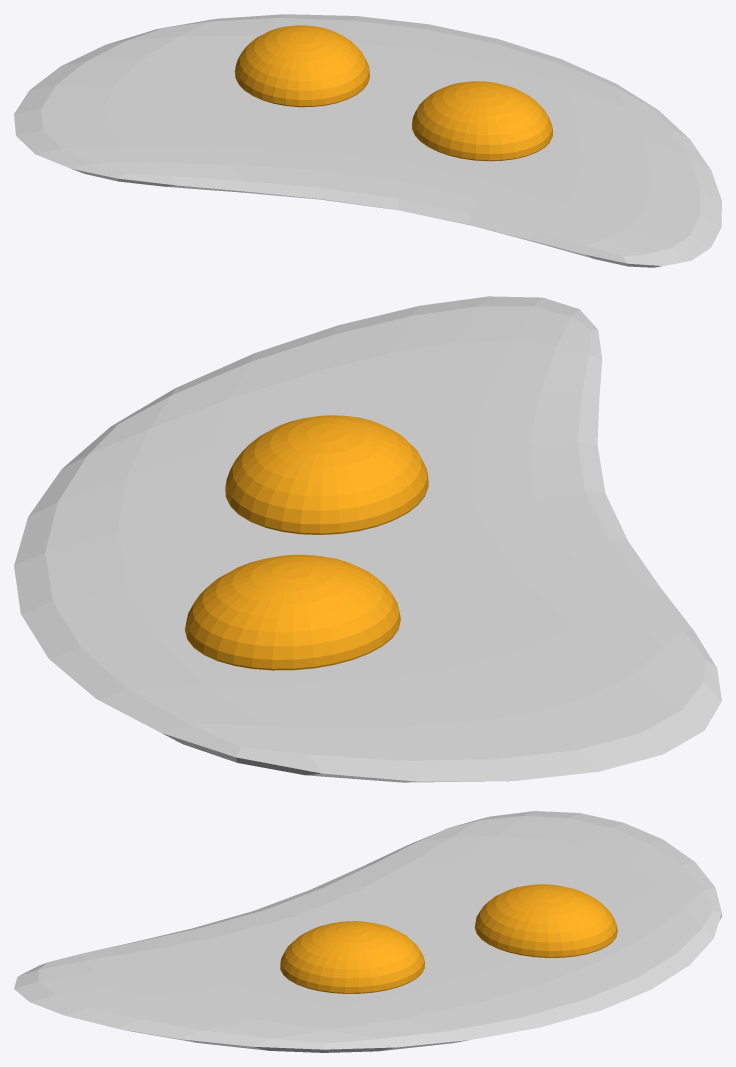
Rendered from eggs.fbx.
The picture shows the model from 3 angles, top to bottom: view 1: azimuth 30°, elevation 25°; view 2: azimuth 150°, elevation 25°; view 3: azimuth 270°, elevation 25°; orthographic projection. The views are drawn at different scales.
Visible parts, largest first — view 1: Circle, Sphere.001, Sphere.002; view 2: Circle, Sphere.002, Sphere.001; view 3: Circle, Sphere.001, Sphere.002.
Part boxes in pixels (x1,y1,x2,y2): Circle: (14, 14, 721, 267); Sphere.001: (412, 81, 552, 161); Sphere.002: (234, 25, 369, 107); Circle: (14, 296, 721, 782); Sphere.002: (185, 554, 400, 670); Sphere.001: (225, 415, 428, 534); Circle: (14, 811, 721, 1052); Sphere.001: (280, 921, 424, 993); Sphere.002: (474, 884, 617, 957).
Bounding box in the file's own units: 285 × 28.74 × 357.
